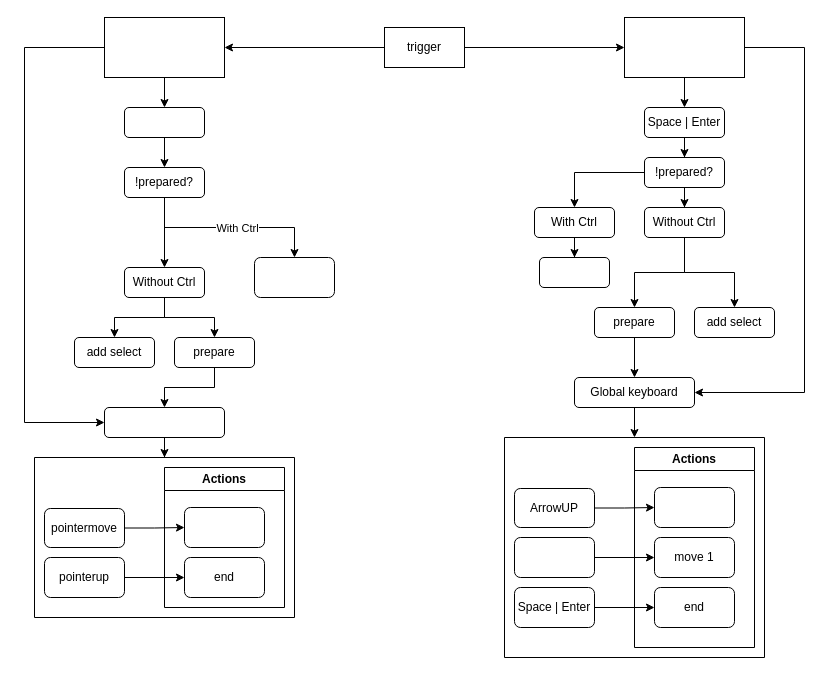
Some shapes in this 830 by 675 pixel diagram are drawn without their labels. The box of each missing label's shape, as (x1, y1, x2, y2) in pixels:
ArrowDown: (514, 536, 594, 578)
Global mouse: (104, 406, 224, 438)
keyboard: (624, 16, 744, 78)
mouse: (104, 16, 224, 78)
move: (184, 506, 264, 548)
move -1: (654, 486, 734, 528)
pointerdown: (124, 106, 204, 138)
toggle: (538, 256, 610, 288)
toggle select: (254, 256, 334, 298)
